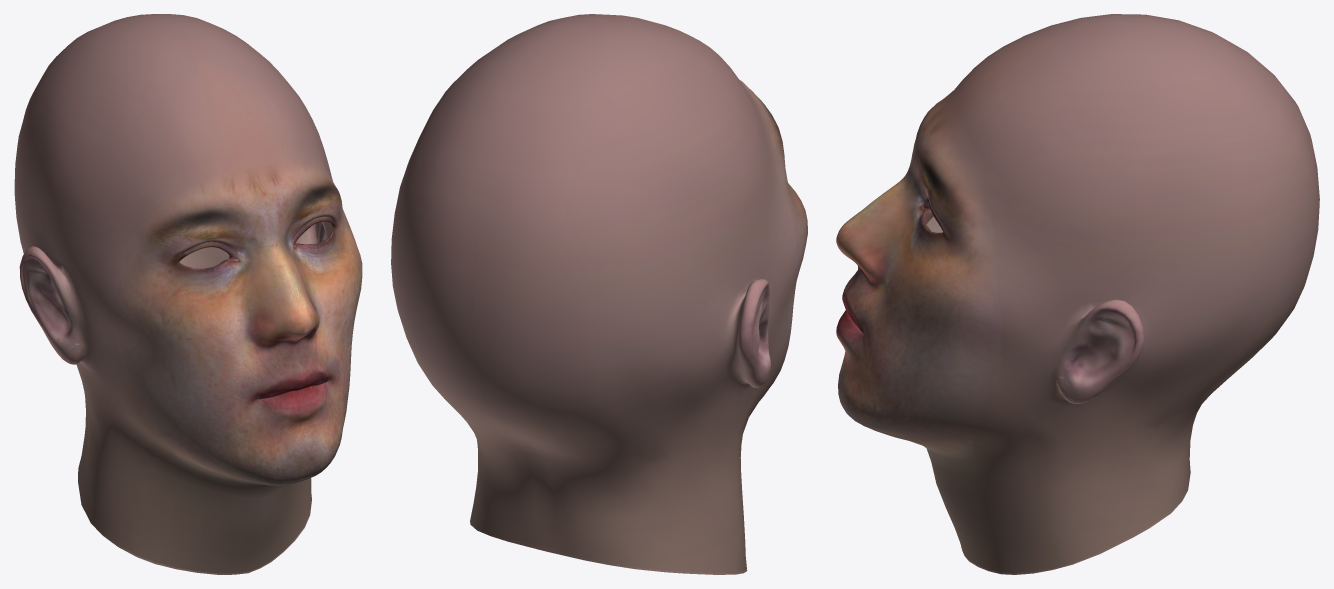
3 renders of one model, left to right at view 1: azimuth 30°, elevation 25°; view 2: azimuth 150°, elevation 25°; view 3: azimuth 270°, elevation 25°, orthographic. The views are drawn at different scales.
Parts seen in each view (by area): view 1: FaceGen; view 2: FaceGen; view 3: FaceGen.
Part boxes in pixels (box(x1,y1,x2,y2)): FaceGen: box(14, 14, 362, 574); FaceGen: box(391, 14, 807, 574); FaceGen: box(836, 14, 1319, 574).
Size of the model in its own units: 181 by 282 by 237.
1 material, 1 textured.
